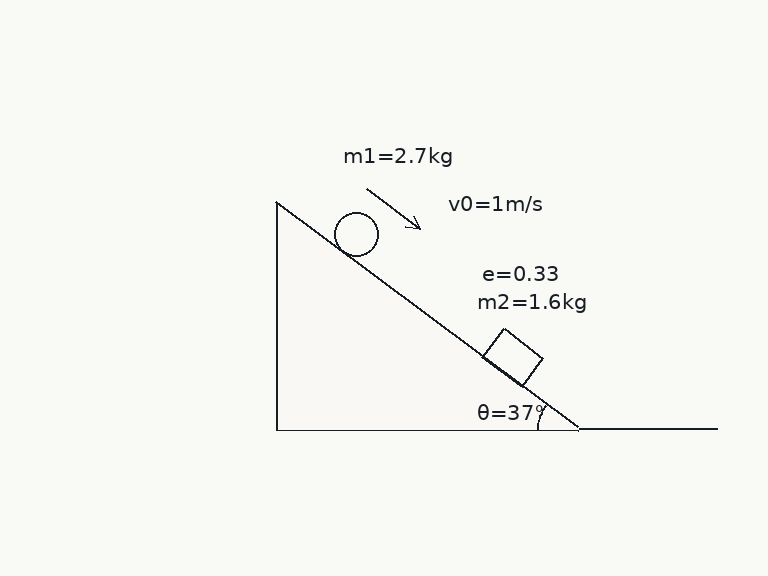ball: (332, 210, 380, 258)
block: (480, 326, 545, 388)
ramp: (275, 200, 580, 431)
